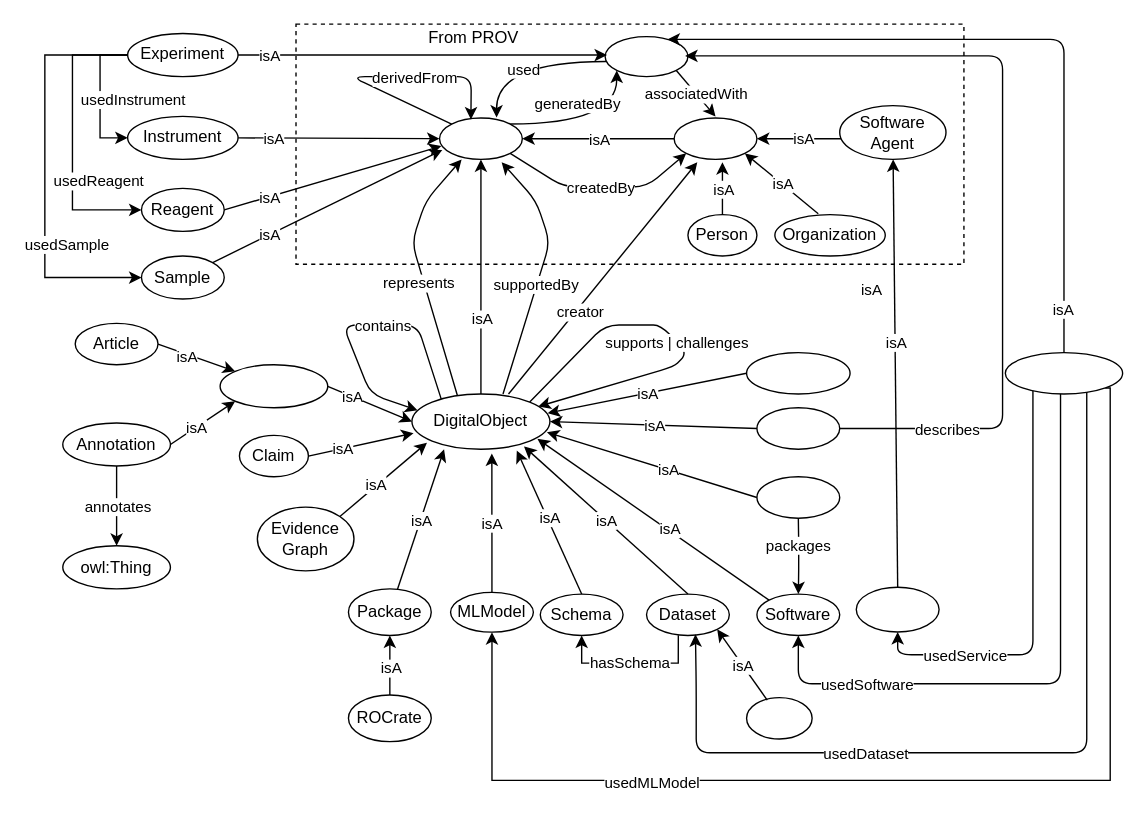
Image size: 1147x816. Some labels were removed from this diagram. Each missing label, with the centre of its shape:
Activity: the point at 646,56
Agent: the point at 715,138
Computation: the point at 1063,372
Container: the point at 798,496
Document: the point at 273,385
Entity: the point at 480,138
Image: the point at 778,717
Method: the point at 798,427
Reference: the point at 797,372
Service: the point at 897,609
